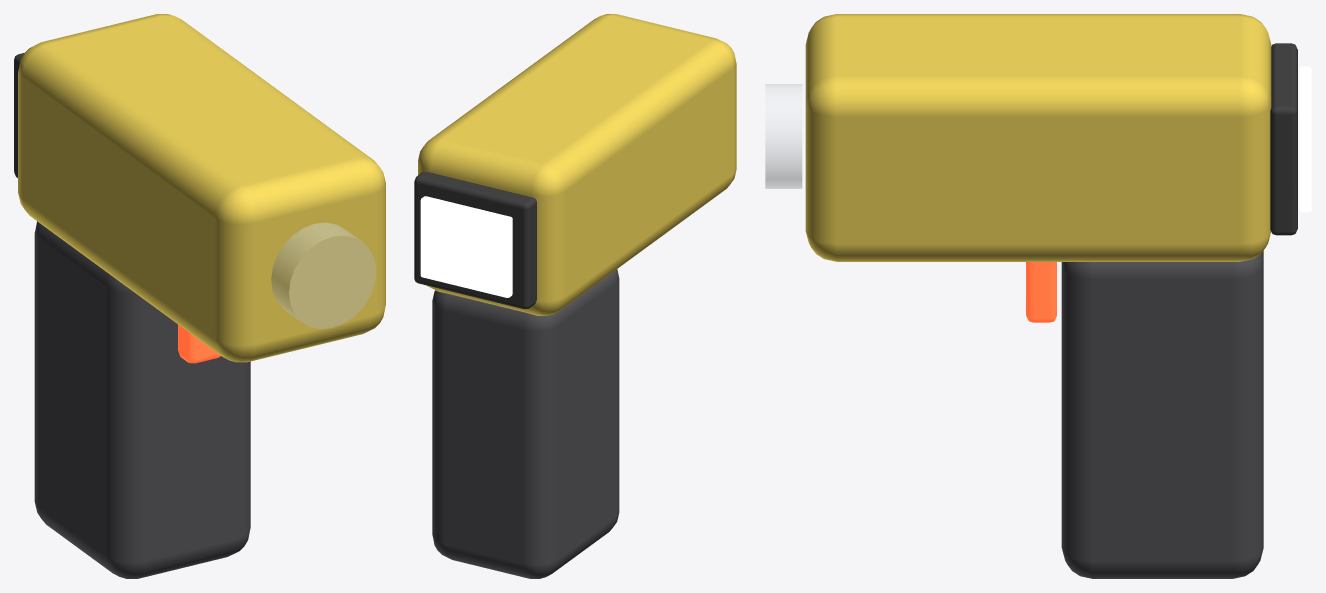
The model's file is paranormal-investigation-house-thermometer-gun-cb2558f9__26765.glb.
3 views of the same model, side by side, from view 1: azimuth 30°, elevation 25°; view 2: azimuth 150°, elevation 25°; view 3: azimuth 270°, elevation 25° (orthographic). The views are drawn at different scales.
Visible parts, largest first — view 1: thermometer-gun; view 2: thermometer-gun; view 3: thermometer-gun.
Part boxes in pixels (x1,y1,x2,y2): thermometer-gun: [14, 14, 385, 578]; thermometer-gun: [414, 14, 736, 578]; thermometer-gun: [765, 14, 1311, 578].
Size of the model in its own units: 0.065 by 0.18 by 0.176.
